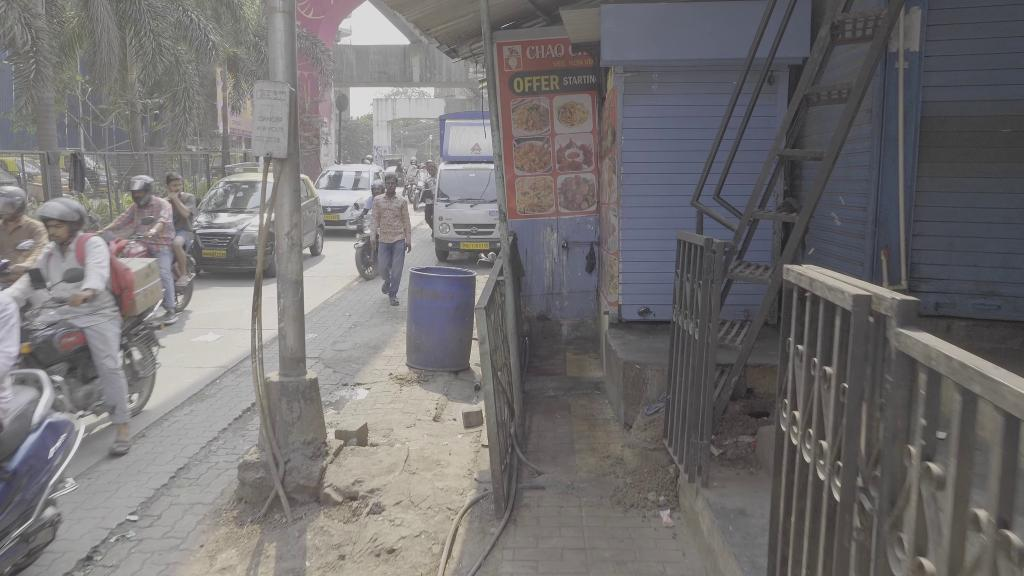dustbin: (399, 258, 480, 378)
